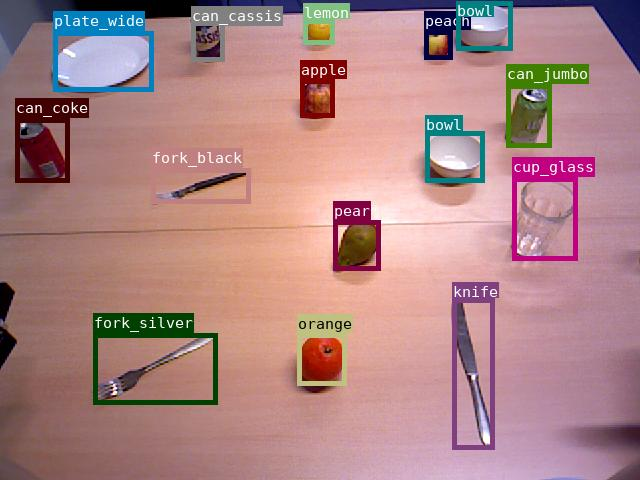apple: (300, 79, 334, 117)
bowl: (425, 131, 484, 182), (456, 1, 512, 50)
can_cassis: (191, 6, 224, 61)
can_coke: (15, 118, 69, 182)
can_jumbo: (506, 84, 551, 147)
cup_glass: (512, 177, 577, 260)
fork_black: (151, 168, 250, 203)
fork_silver: (93, 333, 217, 404)
knife: (452, 298, 494, 449)
lemon: (303, 19, 334, 44)
orange: (297, 333, 346, 385)
peach: (424, 30, 452, 59)
pear: (333, 220, 380, 270)
plate_wide: (53, 31, 153, 91)
